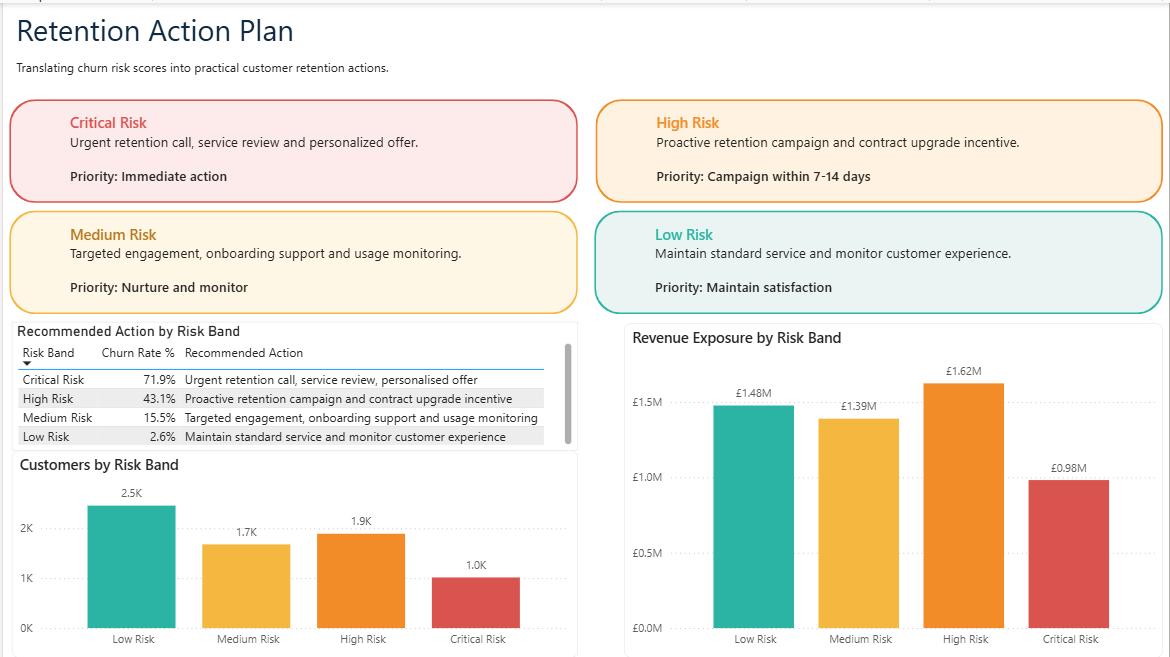

The dashboard page shown, as its layout file describes it:
{"tool":"powerbi","page":{"name":"Retention Action Plan","canvas":[1280,720],"ordinal":4},"visuals":[{"type":"textbox","box":[9.6,2.7,750.6,53.5],"z":0},{"type":"textbox","box":[9.6,56.3,750.6,31.6],"z":1000},{"type":"group","id":"g1","title":"Group 2","box":[7.4,105.7,624.4,113.9],"z":2000},{"type":"group","id":"g2","title":"Group 1","box":[650.4,105.7,623,113.9],"z":2000,"group":"g3"},{"type":"shape","box":[650.4,105.7,623,113.9],"z":2000,"group":"g2"},{"type":"group","id":"g3","title":"Group 3","box":[650.4,105.7,623,113.9],"z":3000},{"type":"group","id":"g4","title":"Group 2","box":[6.9,227.8,624.4,113.9],"z":4000},{"type":"shape","box":[7.4,105.7,624.4,113.9],"z":5000,"group":"g1"},{"type":"shape","box":[6.9,227.8,624.4,113.9],"z":5000,"group":"g6"},{"type":"group","id":"g5","title":"Group 2","box":[649.1,227.8,624.4,113.9],"z":5000},{"type":"shape","box":[649.1,227.8,624.4,113.9],"z":5000,"group":"g5"},{"type":"tableEx","title":"Recommended Action by Risk Band","fields":{"Values":["customer_churn_risk_scores.ChurnRiskBand","_Measures.Churn Rate %","customer_churn_risk_scores.RecommendedRetentionAction"]},"box":[9.6,349.9,621.6,141.3],"z":5001},{"type":"clusteredColumnChart","title":"Customers by Risk Band","fields":{"Category":["customer_churn_risk_scores.ChurnRiskBand"],"Y":["_Measures.Total Customers"]},"box":[9.6,491.3,621.6,229.2],"z":5002},{"type":"clusteredColumnChart","title":"Revenue Exposure by Risk Band","fields":{"Category":["customer_churn_risk_scores.ChurnRiskBand"],"Y":["_Measures.Total Estimated Annual Revenue"]},"box":[682,351.3,591.4,369.1],"z":5003},{"type":"textbox","box":[69.1,115.3,499.5,93.3],"z":6000,"group":"g1"},{"type":"textbox","box":[68.6,237.4,499.5,93.3],"z":6000,"group":"g6"},{"type":"textbox","box":[710.8,237.4,499.5,93.3],"z":6000,"group":"g5"},{"type":"textbox","box":[712.1,115.3,499.5,93.3],"z":6001,"group":"g3"},{"type":"group","id":"g6","title":"Group 4","box":[6.9,227.8,624.4,113.9],"z":6006,"group":"g4"}]}

Visuals, with their boxes in screenshot pixels (x1, y1, x2, y2), scaled from the page's 1280x720 canvas onto the 1170x657 screenshot:
textbox: [left=9, top=2, right=695, bottom=51]
textbox: [left=9, top=51, right=695, bottom=80]
"Group 2" group: [left=7, top=96, right=578, bottom=200]
"Group 1" group: [left=595, top=96, right=1164, bottom=200]
shape: [left=595, top=96, right=1164, bottom=200]
"Group 3" group: [left=595, top=96, right=1164, bottom=200]
"Group 2" group: [left=6, top=208, right=577, bottom=312]
shape: [left=7, top=96, right=578, bottom=200]
shape: [left=6, top=208, right=577, bottom=312]
"Group 2" group: [left=593, top=208, right=1164, bottom=312]
shape: [left=593, top=208, right=1164, bottom=312]
"Recommended Action by Risk Band" tableEx: [left=9, top=319, right=577, bottom=448]
"Customers by Risk Band" clusteredColumnChart: [left=9, top=448, right=577, bottom=656]
"Revenue Exposure by Risk Band" clusteredColumnChart: [left=623, top=321, right=1164, bottom=656]
textbox: [left=63, top=105, right=520, bottom=190]
textbox: [left=63, top=217, right=519, bottom=302]
textbox: [left=650, top=217, right=1106, bottom=302]
textbox: [left=651, top=105, right=1107, bottom=190]
"Group 4" group: [left=6, top=208, right=577, bottom=312]
